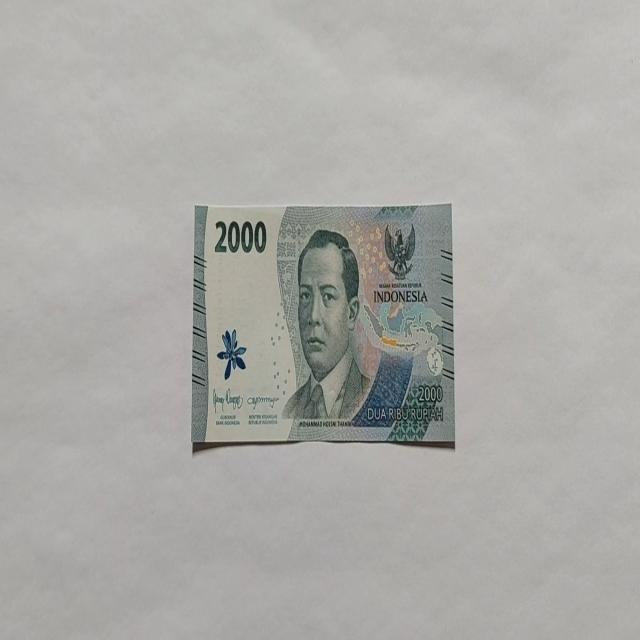dua ribu rupiah: (191, 201, 455, 450), (281, 228, 374, 423)
